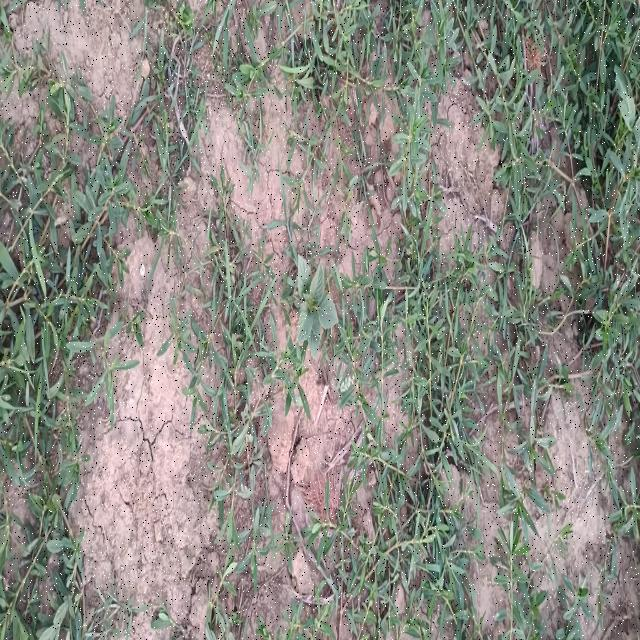plant: (296, 255, 338, 356)
